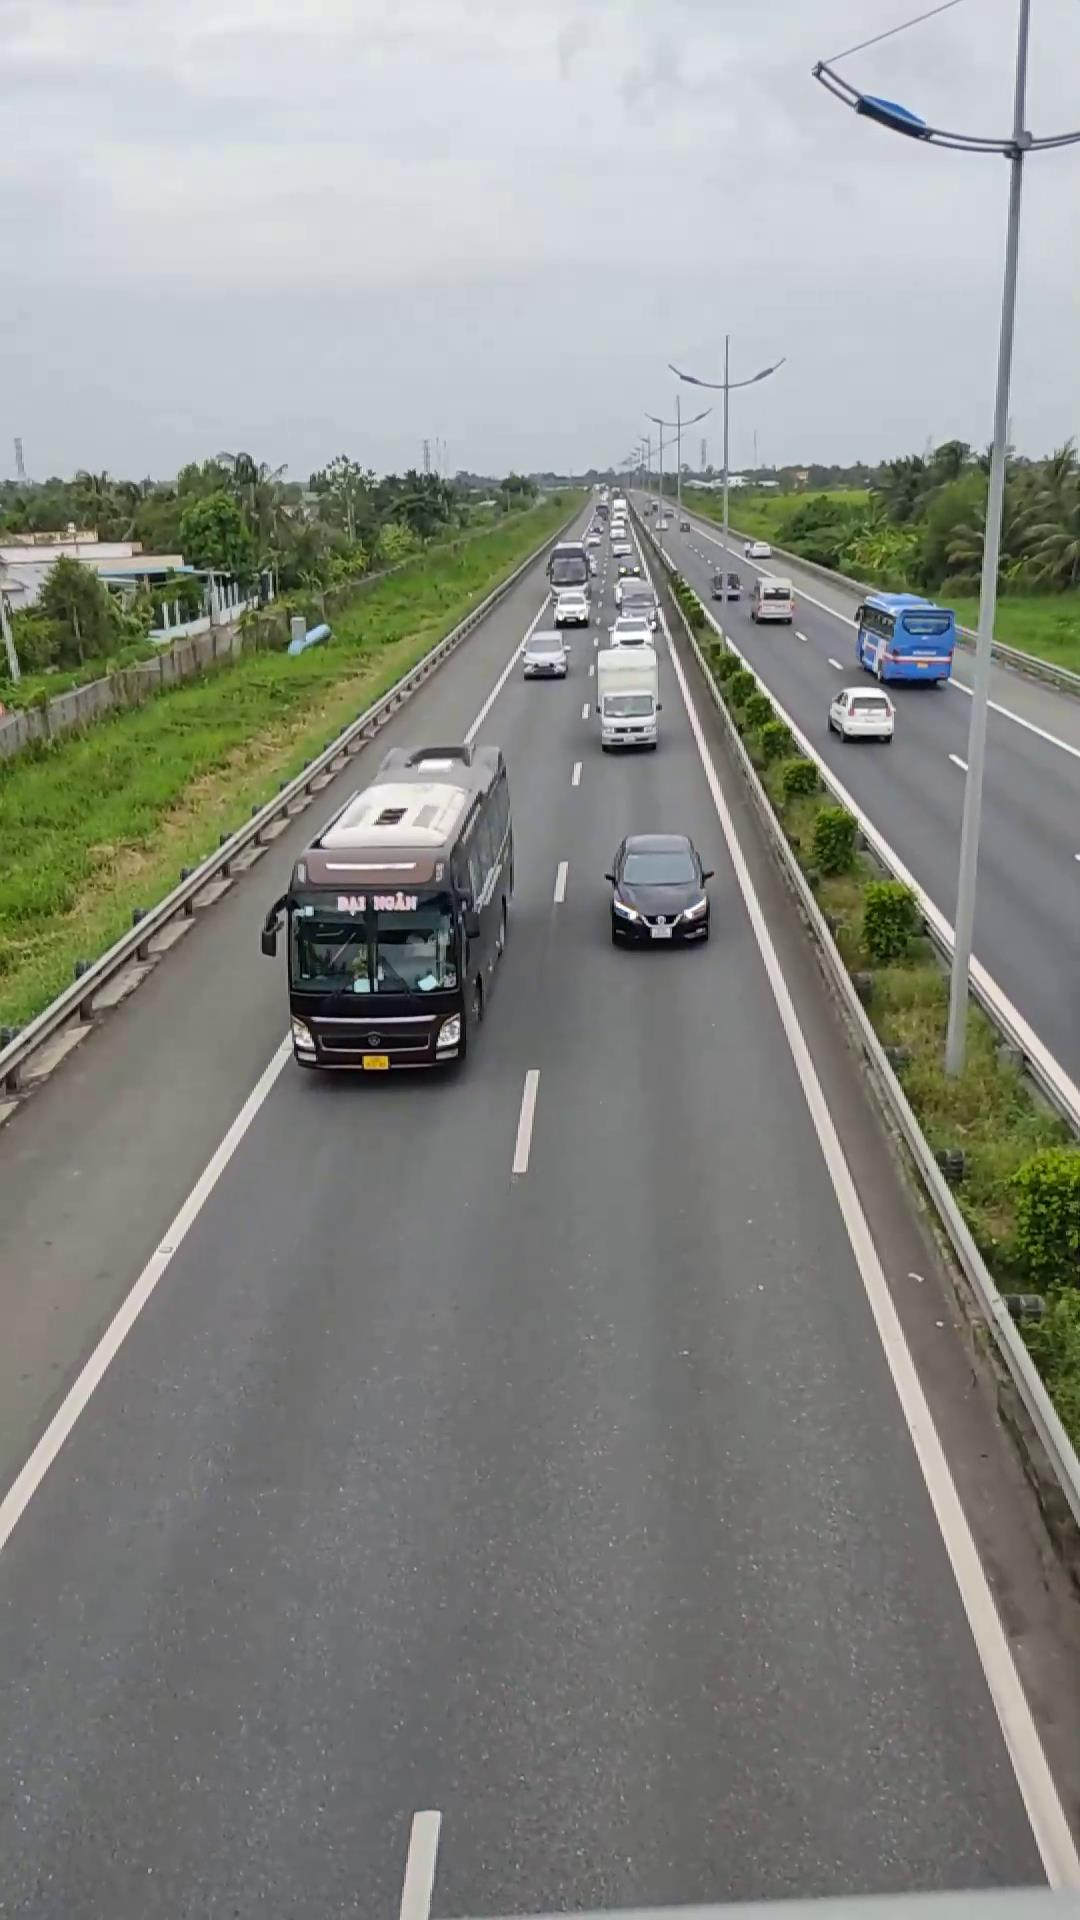bus: (272, 743, 517, 1079)
car: (604, 831, 713, 946)
truck: (855, 588, 956, 685)
